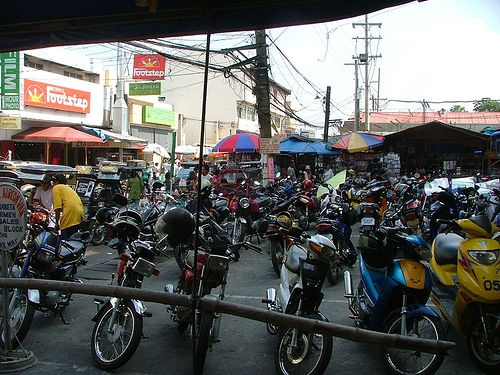non-vehicle: (342, 204, 448, 375), (160, 208, 265, 370), (259, 227, 357, 374), (419, 202, 500, 370), (3, 216, 92, 347), (89, 231, 170, 370), (312, 193, 356, 284), (220, 185, 272, 244), (265, 211, 301, 277), (382, 181, 423, 228), (293, 195, 334, 230), (201, 186, 229, 221), (353, 202, 380, 235)
